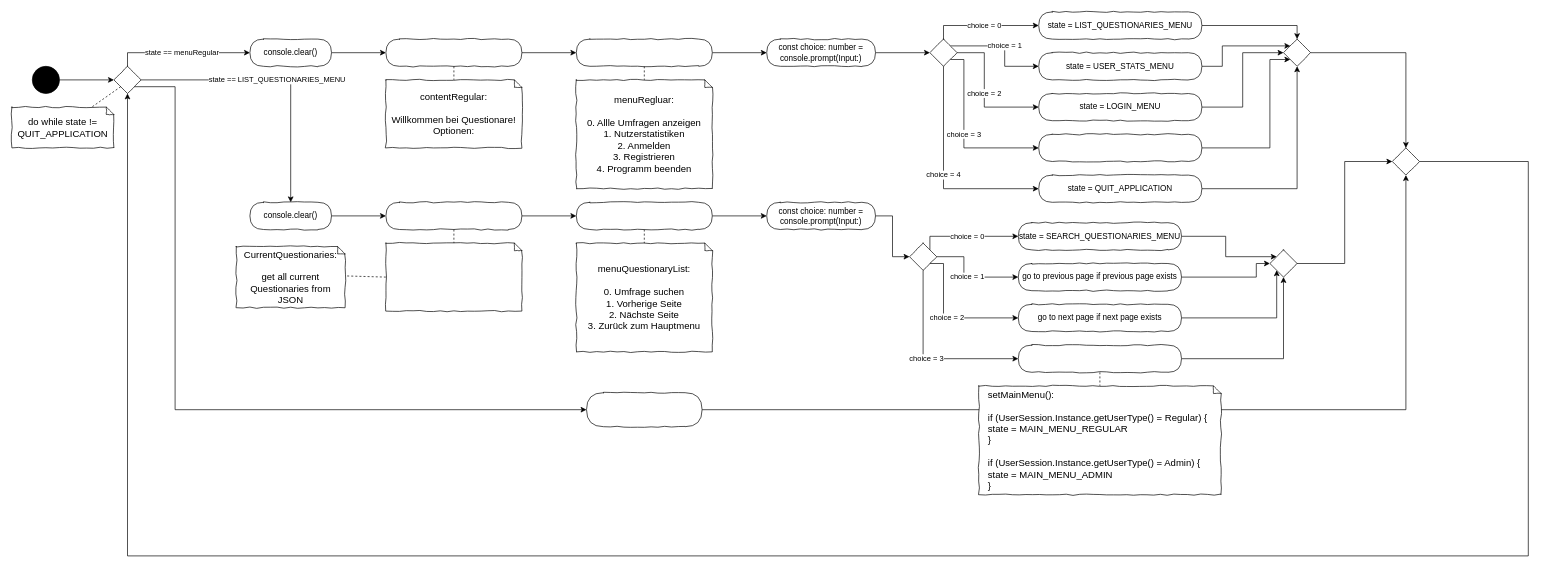
This 1546x573 diagram has some shape labels left out. The box of each missing label's shape, as (x1, y1, x2, y2) in pixels:
console.log( contentQuestionaryList ): (385, 202, 522, 230)
console.log( contentRegular ): (385, 38, 522, 66)
console.log( menuQuestionaryList ): (576, 202, 712, 230)
console.log( menuRegular ): (576, 38, 712, 66)
contentQuestionaryList: Momentane Umfrage: CurrentQuestionaries Optionen:: (385, 242, 522, 311)
state = REGISTER_MENU: (1038, 134, 1202, 162)
state = setMainMenu(): (1018, 344, 1182, 372)
state machine for the rest of the states: (586, 392, 702, 427)
